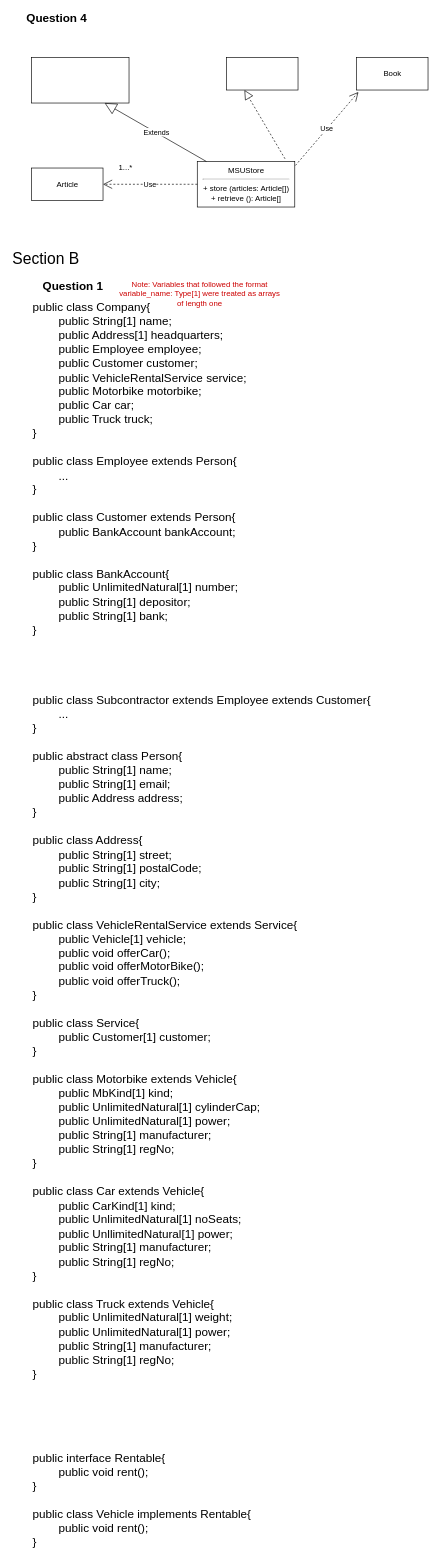
Some shapes in this 439 by 1561 pixel diagram are drawn without their labels. The shapes that lost their labels are listed below. From the top down, each one's box as (x1, y1, x2, y2) in pixels, then its label:
(31, 57, 129, 103): A Store + store (articles: Article[]) + retrieve (): Article[]
(226, 57, 298, 90): I Accounting
